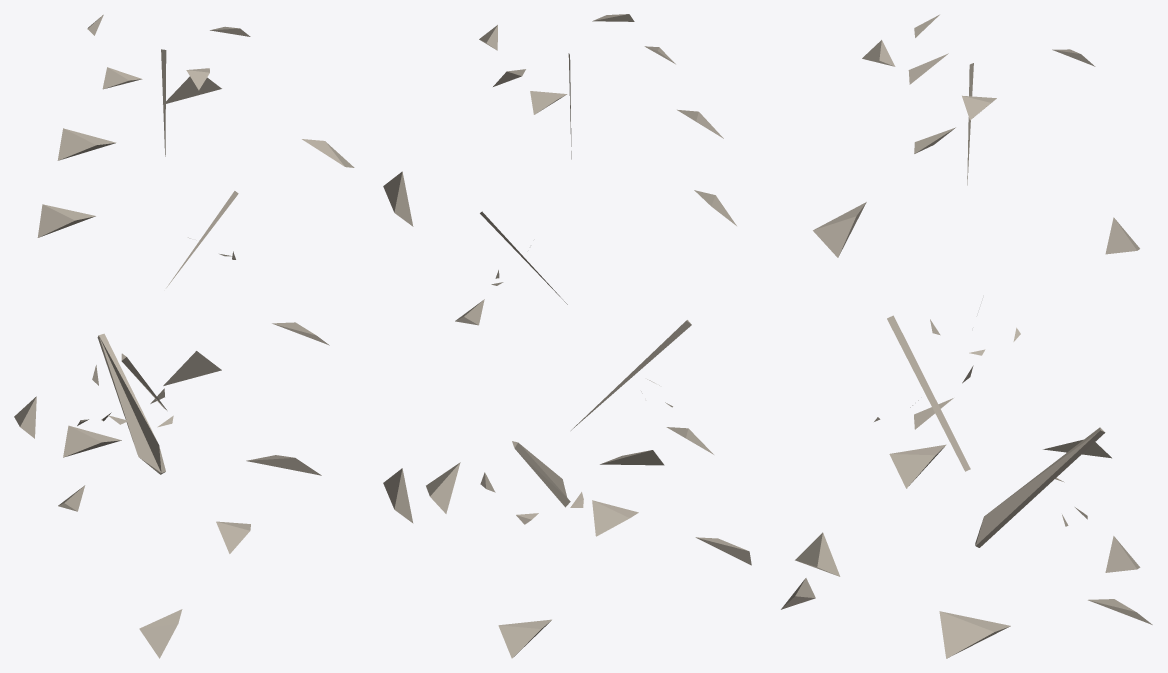
Rendered from corn.lod1.glb.
3 views of the same model, side by side, from view 1: azimuth 30°, elevation 25°; view 2: azimuth 150°, elevation 25°; view 3: azimuth 270°, elevation 25° (orthographic). The views are drawn at different scales.
Visible parts, largest first — view 1: Circle_020_corn_plant__corn_texture_png_0; view 2: Circle_020_corn_plant__corn_texture_png_0; view 3: Circle_020_corn_plant__corn_texture_png_0.
Part boxes in pixels (x1=…): Circle_020_corn_plant__corn_texture_png_0: x1=14, y1=14, x2=354, y2=658; Circle_020_corn_plant__corn_texture_png_0: x1=383, y1=14, x2=751, y2=658; Circle_020_corn_plant__corn_texture_png_0: x1=781, y1=14, x2=1152, y2=658.
Size of the model in its own units: 1.01 by 1.79 by 0.9935.
